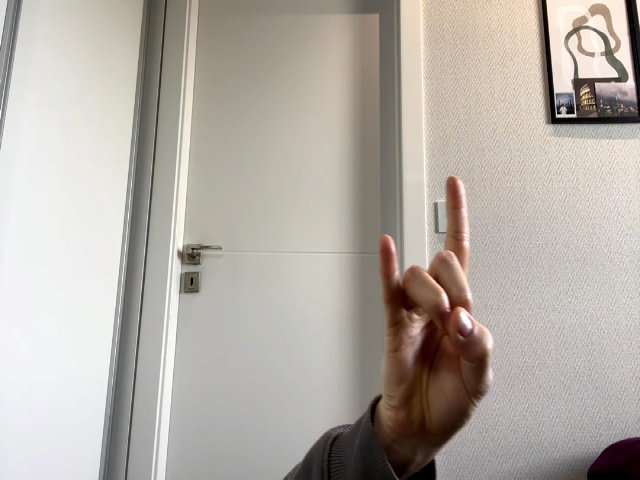Y: (380, 175, 493, 436)
